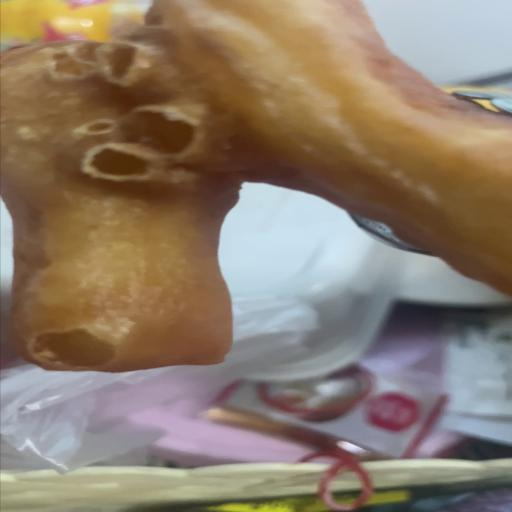street_burnt_defect: (0, 0, 509, 376)
